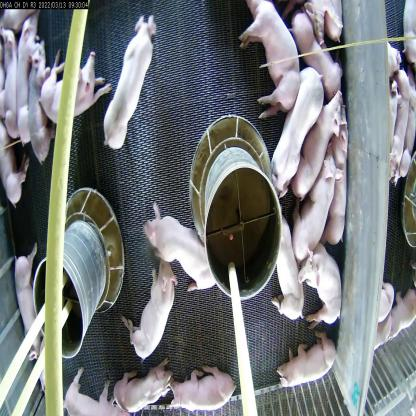Pig: (240, 0, 306, 124), (102, 13, 159, 155), (140, 198, 222, 295), (119, 257, 178, 361), (273, 66, 322, 190), (293, 87, 346, 200), (292, 152, 342, 267), (9, 242, 53, 368), (284, 9, 343, 100), (42, 52, 112, 124), (264, 214, 307, 330), (296, 240, 348, 335), (324, 123, 353, 259), (15, 10, 42, 156), (166, 362, 238, 415), (62, 364, 134, 416), (24, 42, 53, 167), (113, 357, 173, 412), (274, 338, 336, 388), (0, 22, 21, 144), (392, 61, 412, 189)
